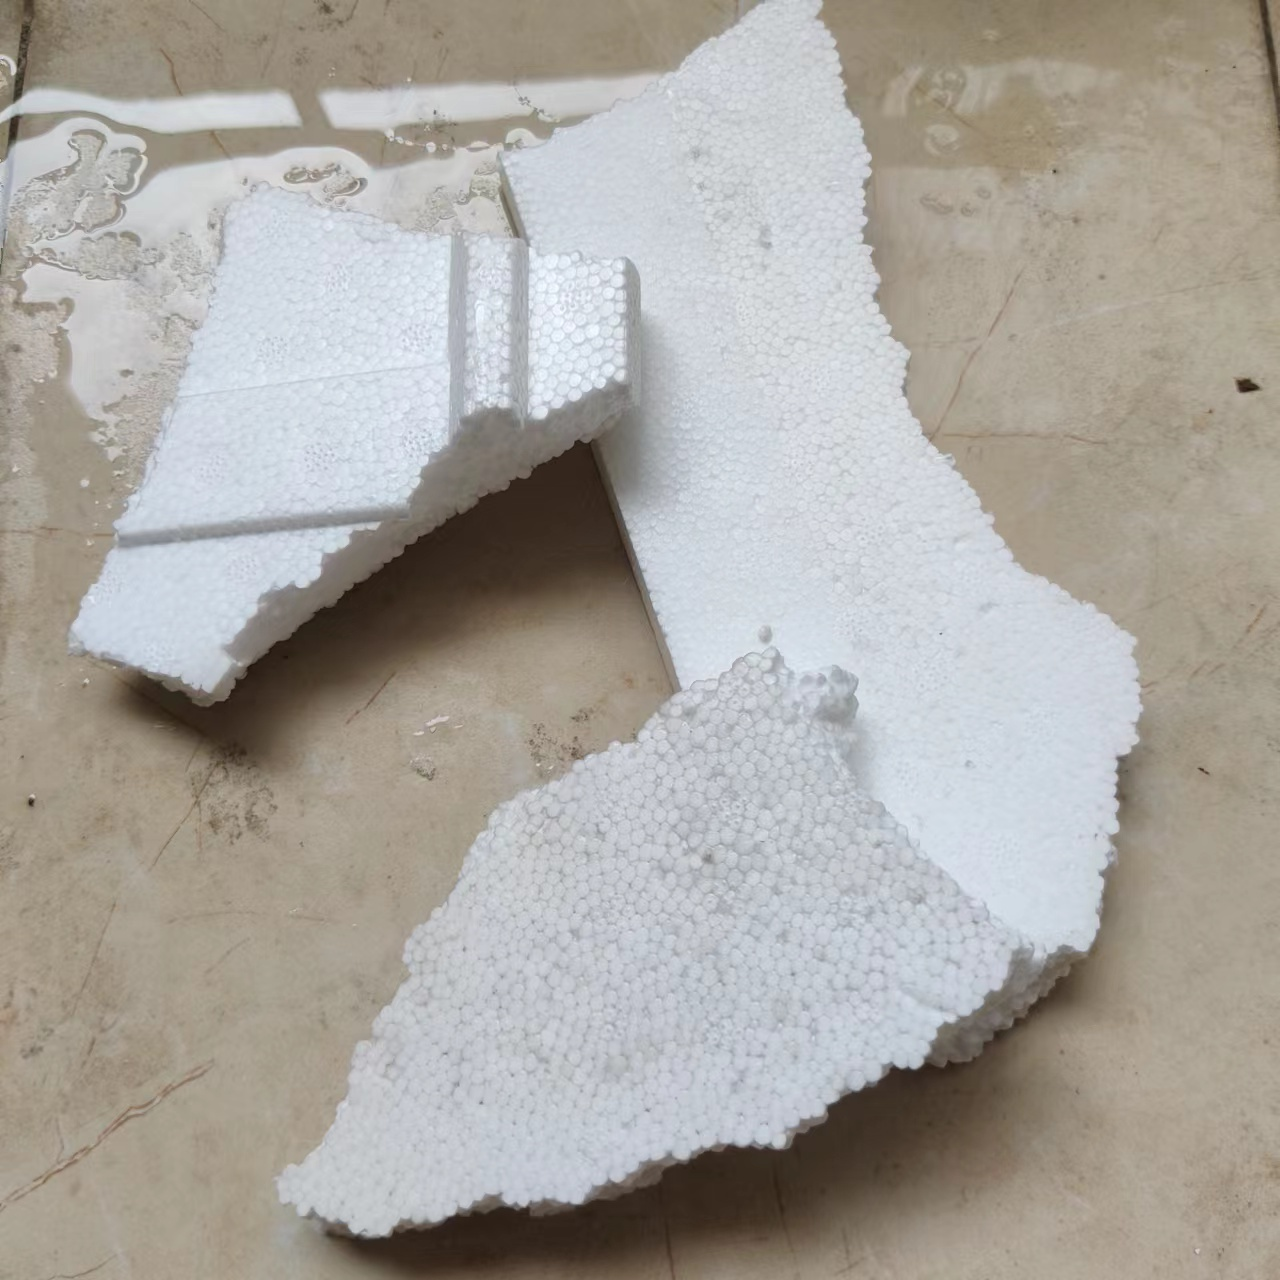5/可回收垃圾/泡沫: (490, 1, 1144, 978), (271, 649, 1039, 1248), (63, 185, 645, 710)
